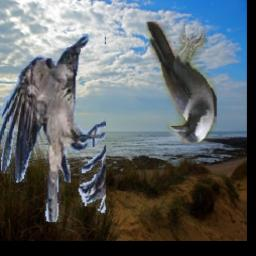Crow: (0, 34, 107, 222), (146, 22, 217, 144)
